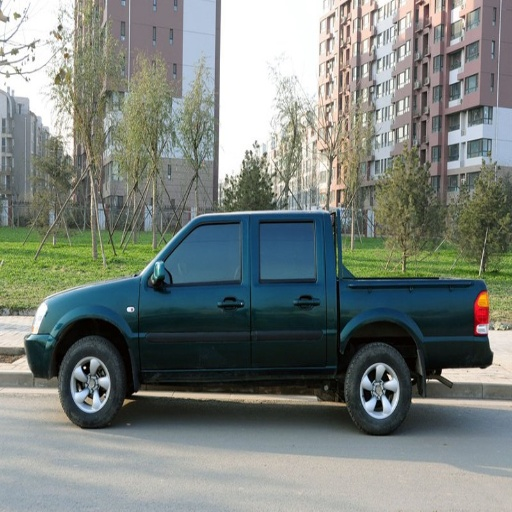back_glass: (250, 217, 327, 366)
back_left_door: (474, 290, 488, 335)
front_glass: (139, 218, 251, 379)
tailgate: (330, 278, 482, 378)
trunk: (346, 343, 410, 434), (61, 337, 123, 426)
